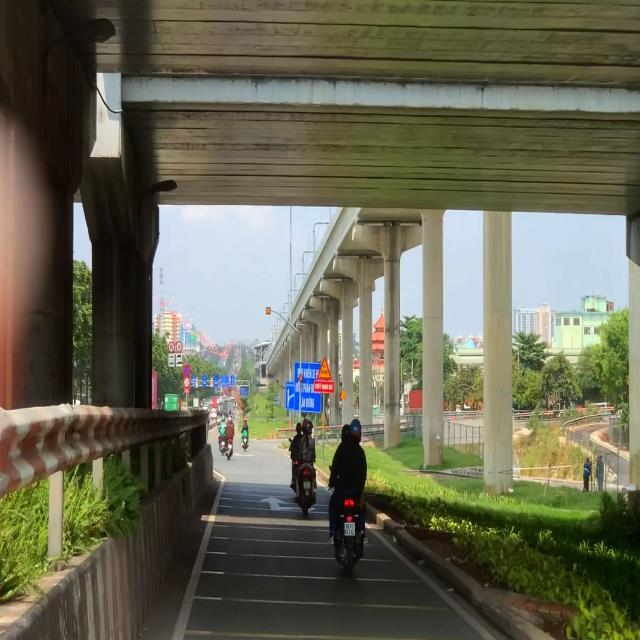Cam con lai: (184, 377, 190, 388)
Cam dung va do: (183, 364, 190, 378)
Nguy hiem: (317, 355, 332, 381)
Toc do toi da: (168, 341, 175, 353), (176, 341, 182, 353)
